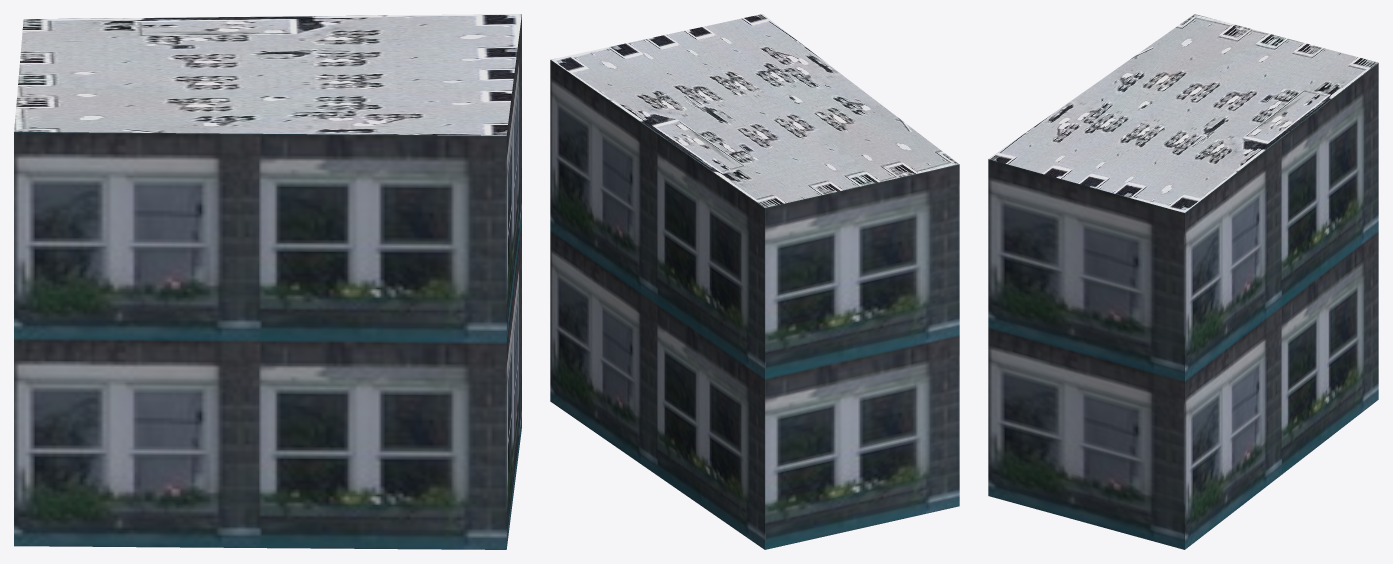
The model's file is ResTex__3450.fbx.
3 views of the same model, side by side, from view 1: azimuth 30°, elevation 25°; view 2: azimuth 150°, elevation 25°; view 3: azimuth 270°, elevation 25° (orthographic). The views are drawn at different scales.
Visible parts, largest first — view 1: CityEngineMaterial_11_m, CityEngineMaterial_4_m; view 2: CityEngineMaterial_11_m, CityEngineMaterial_4_m; view 3: CityEngineMaterial_11_m, CityEngineMaterial_4_m.
Boxes of the visible parts, bbox=[...] form: CityEngineMaterial_11_m: bbox=[14, 15, 521, 549]; CityEngineMaterial_4_m: bbox=[14, 14, 521, 135]; CityEngineMaterial_11_m: bbox=[550, 60, 959, 549]; CityEngineMaterial_4_m: bbox=[551, 14, 958, 207]; CityEngineMaterial_11_m: bbox=[988, 63, 1378, 549]; CityEngineMaterial_4_m: bbox=[989, 14, 1378, 212].
Bounding box in the file's own units: 7.6 × 6 × 6.3.
Materials: 2 (2 with a texture image).
